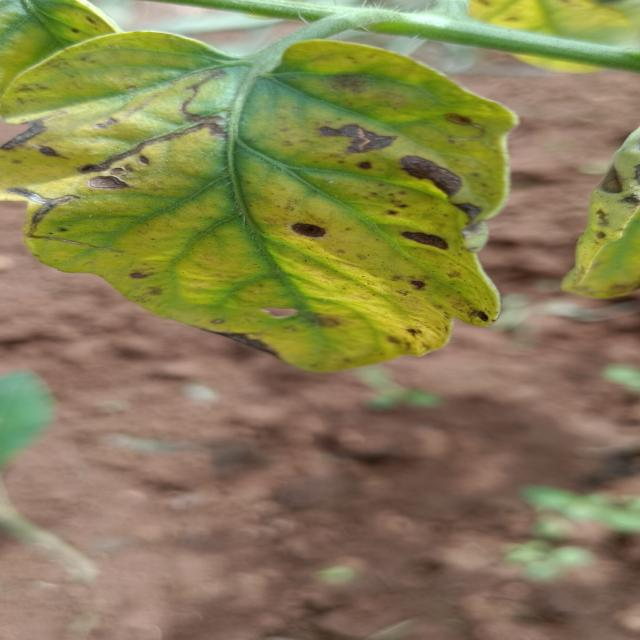tomato_early blight: (0, 31, 516, 372)
